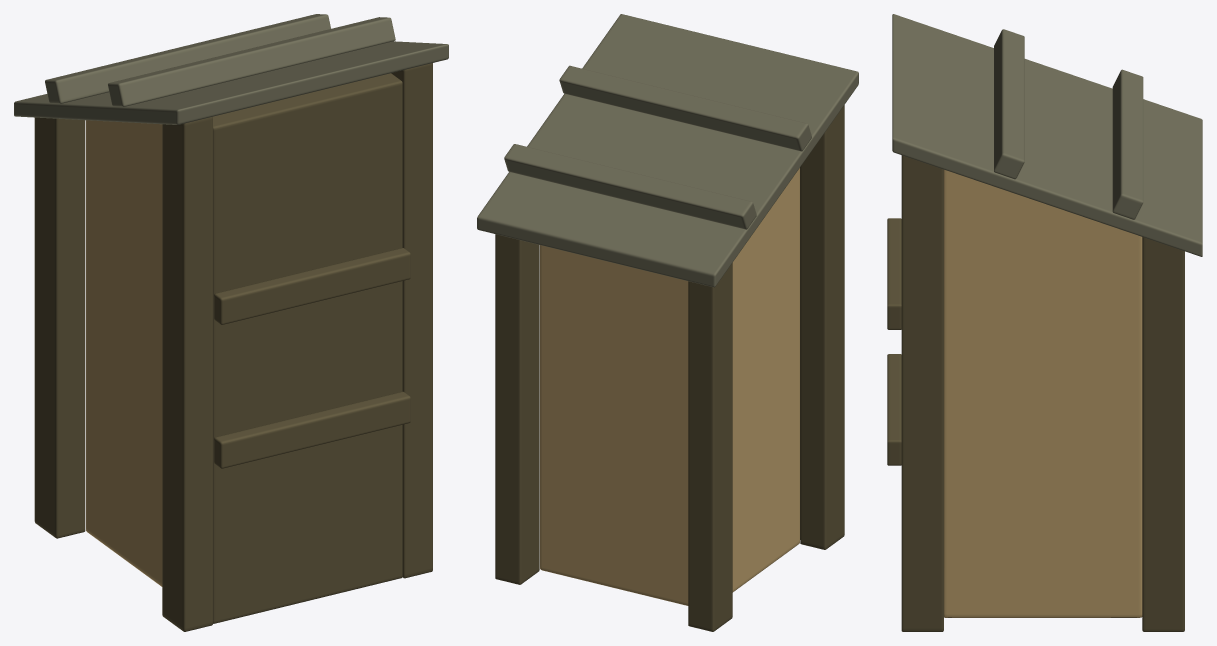
The model's file is Shed_v02.glb.
3 renders of one model, left to right at view 1: azimuth 30°, elevation 25°; view 2: azimuth 150°, elevation 25°; view 3: azimuth 270°, elevation 25°, orthographic. The views are drawn at different scales.
Visible parts, largest first — view 1: SM_Shed; view 2: SM_Shed; view 3: SM_Shed.
Boxes of the visible parts, x1,y1,x2,y2 form: SM_Shed: (14,14,448,631); SM_Shed: (477,14,858,631); SM_Shed: (887,14,1202,631).
Bounding box in the file's own units: 1.33 × 2.46 × 1.41.
